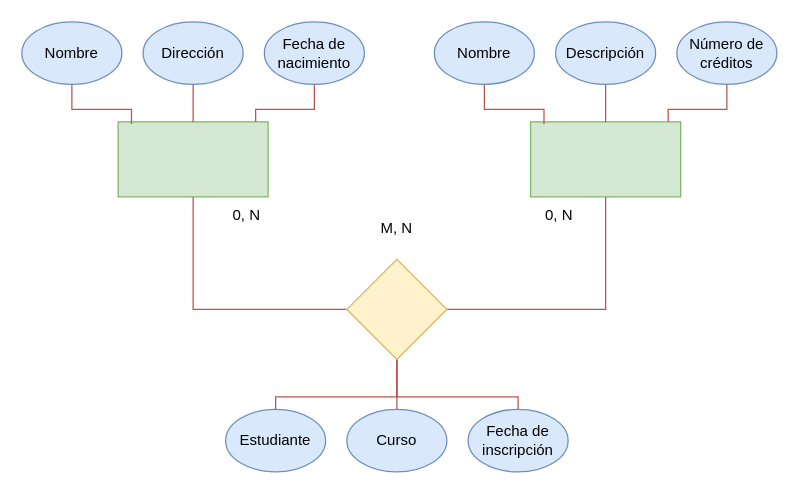
Some shapes in this 799 by 494 pixel diagram are drawn without their labels. The shapes that lost their labels are listed below. From the top down, each one's centre as x and y in pixels, then its label:
At (192,159): "Estudiantes".
At (605,159): "Cursos".
At (396,308): "Inscribe".
